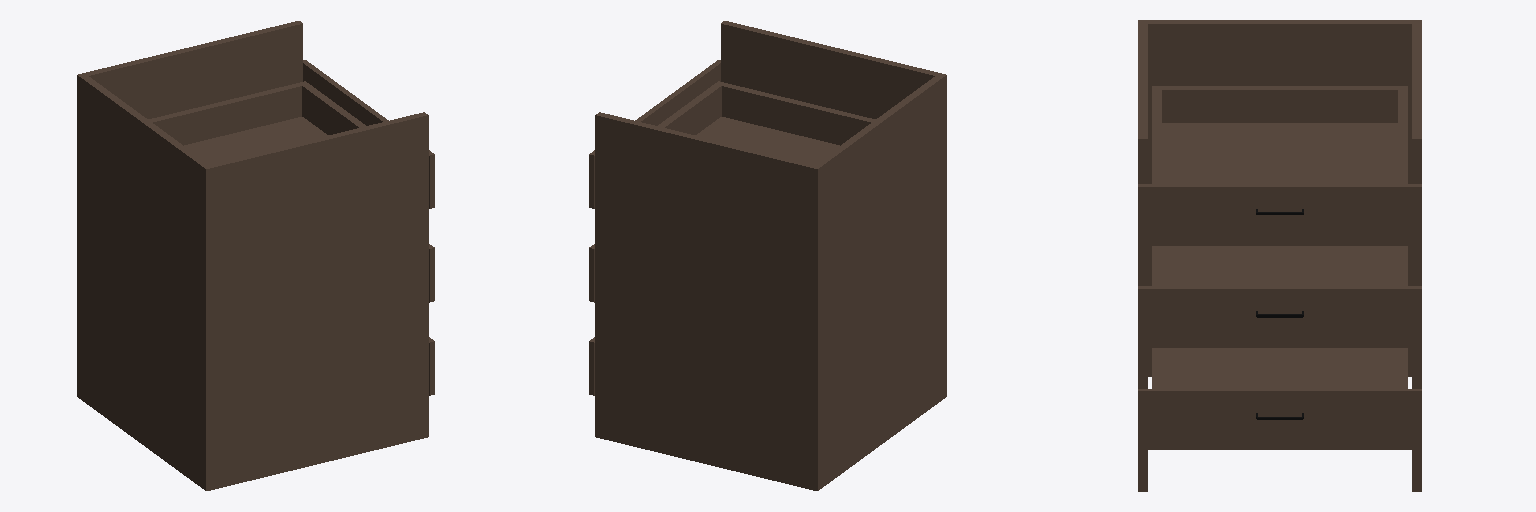
robot.urdf — mk_station:
<robot name="mk_station" version="1.0">
  <joint name="top_drawer_joint" type="prismatic">
    <limit lower="0" upper="0.5" effort="0.00000" velocity="0.00000"/>
    <origin rpy="0.00000 0.00000 0.00000" xyz="0.00000 0.00000 0.66800"/>
    <parent link="body"/>
    <child link="top_drawer"/>
    <axis xyz="1.00000 0.00000 0.00000"/>
  </joint>
  <joint name="middle_drawer_joint" type="prismatic">
    <limit lower="0" upper="0.5" effort="0.00000" velocity="0.00000"/>
    <origin rpy="0.00000 0.00000 0.00000" xyz="0.00000 0.00000 0.42300"/>
    <parent link="body"/>
    <child link="middle_drawer"/>
    <axis xyz="1.00000 0.00000 0.00000"/>
  </joint>
  <joint name="bottom_drawer_joint" type="prismatic">
    <limit lower="0" upper="0.5" effort="0.00000" velocity="0.00000"/>
    <origin rpy="0.00000 0.00000 0.00000" xyz="0.00000 0.00000 0.17800"/>
    <parent link="body"/>
    <child link="bottom_drawer"/>
    <axis xyz="1.00000 0.00000 0.00000"/>
  </joint>
  <link name="body">
    <collision name="body_back_collision">
      <origin rpy="0.00000 0.00000 0.00000" xyz="-0.30500 0.00000 0.42250"/>
      <geometry>
        <box size="0.02000 0.61500 0.84500"/>
      </geometry>
    </collision>
    <visual name="body_back">
      <origin rpy="0.00000 0.00000 0.00000" xyz="-0.30500 0.00000 0.42250"/>
      <material name="gray_wooden"/>
      <geometry>
        <box size="0.02000 0.61500 0.84500"/>
      </geometry>
    </visual>
    <collision name="body_left_collision">
      <origin rpy="0.00000 0.00000 0.00000" xyz="0.00000 -0.29750 0.42250"/>
      <geometry>
        <box size="0.59000 0.02000 0.84500"/>
      </geometry>
    </collision>
    <visual name="body_left">
      <origin rpy="0.00000 0.00000 0.00000" xyz="0.00000 -0.29750 0.42250"/>
      <material name="gray_wooden"/>
      <geometry>
        <box size="0.59000 0.02000 0.84500"/>
      </geometry>
    </visual>
    <collision name="body_right_collision">
      <origin rpy="0.00000 0.00000 0.00000" xyz="0.00000 0.29750 0.42250"/>
      <geometry>
        <box size="0.59000 0.02000 0.84500"/>
      </geometry>
    </collision>
    <visual name="body_right">
      <origin rpy="0.00000 0.00000 0.00000" xyz="0.00000 0.29750 0.42250"/>
      <material name="gray_wooden"/>
      <geometry>
        <box size="0.59000 0.02000 0.84500"/>
      </geometry>
    </visual>
    <collision name="tabletop_collision">
      <origin rpy="0.00000 0.00000 0.00000" xyz="0.00000 0.00000 0.85500"/>
      <geometry>
        <box size="0.63000 0.61500 0.02000"/>
      </geometry>
    </collision>
    <visual name="tabletop">
      <origin rpy="0.00000 0.00000 0.00000" xyz="0.00000 0.00000 0.85500"/>
      <geometry>
        <mesh filename="models/stone_tabletop.glb"/>
      </geometry>
    </visual>
  </link>
  <link name="top_drawer">
    <visual name="handle0">
      <origin rpy="0.00000 0.00000 0.00000" xyz="0.34250 0.00000 0.02"/>
      <material name="black"/>
      <geometry>
        <box size="0.005000 0.10000 0.00500"/>
      </geometry>
    </visual>
    <visual name="handle1">
      <origin rpy="0.00000 0.00000 0.00000" xyz="0.33250 -0.05000 0.02"/>
      <material name="black"/>
      <geometry>
        <box size="0.020000 0.00500 0.00500"/>
      </geometry>
    </visual>
    <visual name="handle2">
      <origin rpy="0.00000 0.00000 0.00000" xyz="0.33250 0.05000 0.02"/>
      <material name="black"/>
      <geometry>
        <box size="0.020000 0.00500 0.00500"/>
      </geometry>
    </visual>
    <collision name="drawer_front_collision">
      <origin rpy="0.00000 0.00000 0.00000" xyz="0.30500 0.00000 0.0"/>
      <geometry>
        <box size="0.015000 0.61500 0.14000"/>
      </geometry>
    </collision>
    <visual name="drawer_front">
      <origin rpy="0.00000 0.00000 0.00000" xyz="0.30500 0.00000 0.0"/>
      <material name="gray_wooden"/>
      <geometry>
        <box size="0.015000 0.61500 0.14000"/>
      </geometry>
    </visual>
    <collision name="drawer_back_collision">
      <origin rpy="0.00000 0.00000 0.00000" xyz="-0.28500 0.00000 -0.02"/>
      <geometry>
        <box size="0.02000 0.51500 0.10000"/>
      </geometry>
    </collision>
    <visual name="drawer_back">
      <origin rpy="0.00000 0.00000 0.00000" xyz="-0.28500 0.00000 -0.02"/>
      <material name="white_wooden"/>
      <geometry>
        <box size="0.02000 0.51500 0.10000"/>
      </geometry>
    </visual>
    <collision name="drawer_interior_bottom_collision">
      <origin rpy="0.00000 0.00000 0.00000" xyz="0.00000 0.00000 -0.06"/>
      <geometry>
        <box size="0.55000 0.51500 0.02000"/>
      </geometry>
    </collision>
    <visual name="drawer_interior_bottom">
      <origin rpy="0.00000 0.00000 0.00000" xyz="0.00000 0.00000 -0.06"/>
      <material name="white_wooden"/>
      <geometry>
        <box size="0.55000 0.51500 0.02000"/>
      </geometry>
    </visual>
    <collision name="drawer_interior_front_collision">
      <origin rpy="0.00000 0.00000 0.00000" xyz="0.28500 0.00000 -0.02"/>
      <geometry>
        <box size="0.02000 0.51500 0.10000"/>
      </geometry>
    </collision>
    <visual name="drawer_interior_front">
      <origin rpy="0.00000 0.00000 0.00000" xyz="0.28500 0.00000 -0.02"/>
      <material name="white_wooden"/>
      <geometry>
        <box size="0.02000 0.51500 0.10000"/>
      </geometry>
    </visual>
    <collision name="drawer_left_collision">
      <origin rpy="0.00000 0.00000 0.00000" xyz="0.00000 -0.26750 -0.02"/>
      <geometry>
        <box size="0.59000 0.02000 0.10000"/>
      </geometry>
    </collision>
    <visual name="drawer_left">
      <origin rpy="0.00000 0.00000 0.00000" xyz="0.00000 -0.26750 -0.02"/>
      <material name="white_wooden"/>
      <geometry>
        <box size="0.59000 0.02000 0.10000"/>
      </geometry>
    </visual>
    <collision name="drawer_right_collision">
      <origin rpy="0.00000 0.00000 0.00000" xyz="0.00000 0.26750 -0.02"/>
      <geometry>
        <box size="0.59000 0.02000 0.10000"/>
      </geometry>
    </collision>
    <visual name="drawer_right">
      <origin rpy="0.00000 0.00000 0.00000" xyz="0.00000 0.26750 -0.02"/>
      <material name="white_wooden"/>
      <geometry>
        <box size="0.59000 0.02000 0.10000"/>
      </geometry>
    </visual>
  </link>
  <link name="middle_drawer">
    <visual name="handle0">
      <origin rpy="0.00000 0.00000 0.00000" xyz="0.34250 0.00000 0.02"/>
      <material name="black"/>
      <geometry>
        <box size="0.005000 0.10000 0.00500"/>
      </geometry>
    </visual>
    <visual name="handle1">
      <origin rpy="0.00000 0.00000 0.00000" xyz="0.33250 -0.05000 0.02"/>
      <material name="black"/>
      <geometry>
        <box size="0.020000 0.00500 0.00500"/>
      </geometry>
    </visual>
    <visual name="handle2">
      <origin rpy="0.00000 0.00000 0.00000" xyz="0.33250 0.05000 0.02"/>
      <material name="black"/>
      <geometry>
        <box size="0.020000 0.00500 0.00500"/>
      </geometry>
    </visual>
    <collision name="drawer_front_collision">
      <origin rpy="0.00000 0.00000 0.00000" xyz="0.30500 0.00000 0.0"/>
      <geometry>
        <box size="0.015000 0.61500 0.14000"/>
      </geometry>
    </collision>
    <visual name="drawer_front">
      <origin rpy="0.00000 0.00000 0.00000" xyz="0.30500 0.00000 0.0"/>
      <material name="gray_wooden"/>
      <geometry>
        <box size="0.015000 0.61500 0.14000"/>
      </geometry>
    </visual>
    <collision name="drawer_back_collision">
      <origin rpy="0.00000 0.00000 0.00000" xyz="-0.28500 0.00000 -0.02"/>
      <geometry>
        <box size="0.02000 0.51500 0.10000"/>
      </geometry>
    </collision>
    <visual name="drawer_back">
      <origin rpy="0.00000 0.00000 0.00000" xyz="-0.28500 0.00000 -0.02"/>
      <material name="white_wooden"/>
      <geometry>
        <box size="0.02000 0.51500 0.10000"/>
      </geometry>
    </visual>
    <collision name="drawer_interior_bottom_collision">
      <origin rpy="0.00000 0.00000 0.00000" xyz="0.00000 0.00000 -0.06"/>
      <geometry>
        <box size="0.55000 0.51500 0.02000"/>
      </geometry>
    </collision>
    <visual name="drawer_interior_bottom">
      <origin rpy="0.00000 0.00000 0.00000" xyz="0.00000 0.00000 -0.06"/>
      <material name="white_wooden"/>
      <geometry>
        <box size="0.55000 0.51500 0.02000"/>
      </geometry>
    </visual>
    <collision name="drawer_interior_front_collision">
      <origin rpy="0.00000 0.00000 0.00000" xyz="0.28500 0.00000 -0.02"/>
      <geometry>
        <box size="0.02000 0.51500 0.10000"/>
      </geometry>
    </collision>
    <visual name="drawer_interior_front">
      <origin rpy="0.00000 0.00000 0.00000" xyz="0.28500 0.00000 -0.02"/>
      <material name="white_wooden"/>
      <geometry>
        <box size="0.02000 0.51500 0.10000"/>
      </geometry>
    </visual>
    <collision name="drawer_left_collision">
      <origin rpy="0.00000 0.00000 0.00000" xyz="0.00000 -0.26750 -0.02"/>
      <geometry>
        <box size="0.59000 0.02000 0.10000"/>
      </geometry>
    </collision>
    <visual name="drawer_left">
      <origin rpy="0.00000 0.00000 0.00000" xyz="0.00000 -0.26750 -0.02"/>
      <material name="white_wooden"/>
      <geometry>
        <box size="0.59000 0.02000 0.10000"/>
      </geometry>
    </visual>
    <collision name="drawer_right_collision">
      <origin rpy="0.00000 0.00000 0.00000" xyz="0.00000 0.26750 -0.02"/>
      <geometry>
        <box size="0.59000 0.02000 0.10000"/>
      </geometry>
    </collision>
    <visual name="drawer_right">
      <origin rpy="0.00000 0.00000 0.00000" xyz="0.00000 0.26750 -0.02"/>
      <material name="white_wooden"/>
      <geometry>
        <box size="0.59000 0.02000 0.10000"/>
      </geometry>
    </visual>
  </link>
  <link name="bottom_drawer">
    <visual name="handle0">
      <origin rpy="0.00000 0.00000 0.00000" xyz="0.34250 0.00000 0.02"/>
      <material name="black"/>
      <geometry>
        <box size="0.005000 0.10000 0.00500"/>
      </geometry>
    </visual>
    <visual name="handle1">
      <origin rpy="0.00000 0.00000 0.00000" xyz="0.33250 -0.05000 0.02"/>
      <material name="black"/>
      <geometry>
        <box size="0.020000 0.00500 0.00500"/>
      </geometry>
    </visual>
    <visual name="handle2">
      <origin rpy="0.00000 0.00000 0.00000" xyz="0.33250 0.05000 0.02"/>
      <material name="black"/>
      <geometry>
        <box size="0.020000 0.00500 0.00500"/>
      </geometry>
    </visual>
    <collision name="drawer_front_collision">
      <origin rpy="0.00000 0.00000 0.00000" xyz="0.30500 0.00000 0.0"/>
      <geometry>
        <box size="0.015000 0.61500 0.14000"/>
      </geometry>
    </collision>
    <visual name="drawer_front">
      <origin rpy="0.00000 0.00000 0.00000" xyz="0.30500 0.00000 0.0"/>
      <material name="gray_wooden"/>
      <geometry>
        <box size="0.015000 0.61500 0.14000"/>
      </geometry>
    </visual>
    <collision name="drawer_back_collision">
      <origin rpy="0.00000 0.00000 0.00000" xyz="-0.28500 0.00000 -0.02"/>
      <geometry>
        <box size="0.02000 0.51500 0.10000"/>
      </geometry>
    </collision>
    <visual name="drawer_back">
      <origin rpy="0.00000 0.00000 0.00000" xyz="-0.28500 0.00000 -0.02"/>
      <material name="white_wooden"/>
      <geometry>
        <box size="0.02000 0.51500 0.10000"/>
      </geometry>
    </visual>
    <collision name="drawer_interior_bottom_collision">
      <origin rpy="0.00000 0.00000 0.00000" xyz="0.00000 0.00000 -0.06"/>
      <geometry>
        <box size="0.55000 0.51500 0.02000"/>
      </geometry>
    </collision>
    <visual name="drawer_interior_bottom">
      <origin rpy="0.00000 0.00000 0.00000" xyz="0.00000 0.00000 -0.06"/>
      <material name="white_wooden"/>
      <geometry>
        <box size="0.55000 0.51500 0.02000"/>
      </geometry>
    </visual>
    <collision name="drawer_interior_front_collision">
      <origin rpy="0.00000 0.00000 0.00000" xyz="0.28500 0.00000 -0.02"/>
      <geometry>
        <box size="0.02000 0.51500 0.10000"/>
      </geometry>
    </collision>
    <visual name="drawer_interior_front">
      <origin rpy="0.00000 0.00000 0.00000" xyz="0.28500 0.00000 -0.02"/>
      <material name="white_wooden"/>
      <geometry>
        <box size="0.02000 0.51500 0.10000"/>
      </geometry>
    </visual>
    <collision name="drawer_left_collision">
      <origin rpy="0.00000 0.00000 0.00000" xyz="0.00000 -0.26750 -0.02"/>
      <geometry>
        <box size="0.59000 0.02000 0.10000"/>
      </geometry>
    </collision>
    <visual name="drawer_left">
      <origin rpy="0.00000 0.00000 0.00000" xyz="0.00000 -0.26750 -0.02"/>
      <material name="white_wooden"/>
      <geometry>
        <box size="0.59000 0.02000 0.10000"/>
      </geometry>
    </visual>
    <collision name="drawer_right_collision">
      <origin rpy="0.00000 0.00000 0.00000" xyz="0.00000 0.26750 -0.02"/>
      <geometry>
        <box size="0.59000 0.02000 0.10000"/>
      </geometry>
    </collision>
    <visual name="drawer_right">
      <origin rpy="0.00000 0.00000 0.00000" xyz="0.00000 0.26750 -0.02"/>
      <material name="white_wooden"/>
      <geometry>
        <box size="0.59000 0.02000 0.10000"/>
      </geometry>
    </visual>
  </link>
  <material name="gray_wooden">
    <color rgba="0.38824 0.32157 0.27451 1.00000"/>
  </material>
  <material name="white_wooden">
    <color rgba="0.38824 0.32157 0.27451 1.00000"/>
  </material>
  <material name="black">
    <color rgba="0.10000 0.10000 0.10000 1.00000"/>
  </material>
</robot>

--- Facts derived from the render (not from the file) ---
Views: 3 orthographic renders of the robot side by side, from view 1: azimuth 30°, elevation 25°; view 2: azimuth 150°, elevation 25°; view 3: azimuth 270°, elevation 25°.
Robot: mk_station — 4 links, 3 joints (3 prismatic); root link body; default pose: all joints at 0.
Visible links, largest first — view 1: body, top_drawer; view 2: body, top_drawer; view 3: top_drawer, middle_drawer, bottom_drawer, body.
Boxes of the visible links, x1,y1,x2,y2 form: body: (77, 21, 428, 490); top_drawer: (148, 60, 434, 208); body: (595, 21, 946, 490); top_drawer: (589, 60, 875, 208); top_drawer: (1138, 86, 1421, 245); middle_drawer: (1138, 246, 1421, 347); bottom_drawer: (1138, 348, 1421, 449); body: (1138, 20, 1421, 491).
Bounding box of the posed robot: 0.66 × 0.615 × 0.845 m (x, y, z).
0 mesh visuals loaded from 1 distinct referenced files (none loaded); not drawn: 1 (file found but could not be loaded).